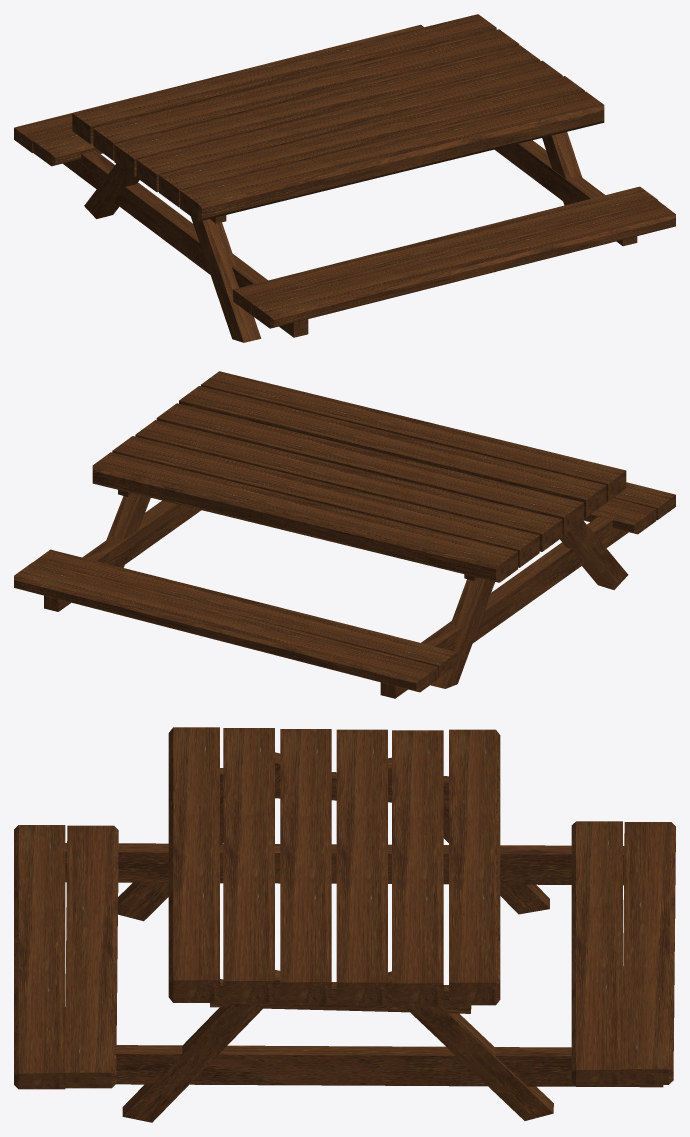
Rendered from wooden_picnic_table_-_low_poly.glb.
The picture shows the model from 3 angles, top to bottom: view 1: azimuth 30°, elevation 25°; view 2: azimuth 150°, elevation 25°; view 3: azimuth 270°, elevation 25°; orthographic projection. The views are drawn at different scales.
Parts seen in each view (by area): view 1: Cube; view 2: Cube; view 3: Cube.
Boxes of the visible parts, x1,y1,x2,y2 form: Cube: [14, 14, 675, 342]; Cube: [14, 371, 675, 698]; Cube: [14, 727, 675, 1122].
Bounding box in the file's own units: 1.91 × 0.5819 × 2.06.
Materials: 1 (1 with a texture image).
